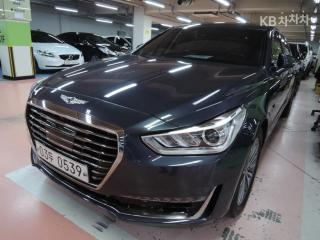0: (38, 145, 45, 158), (57, 155, 63, 168)
3: (68, 162, 76, 174), (43, 148, 48, 160)
5: (63, 159, 70, 172)
9: (76, 164, 82, 178)
plate: (33, 137, 91, 190)
두: (48, 151, 54, 163)
